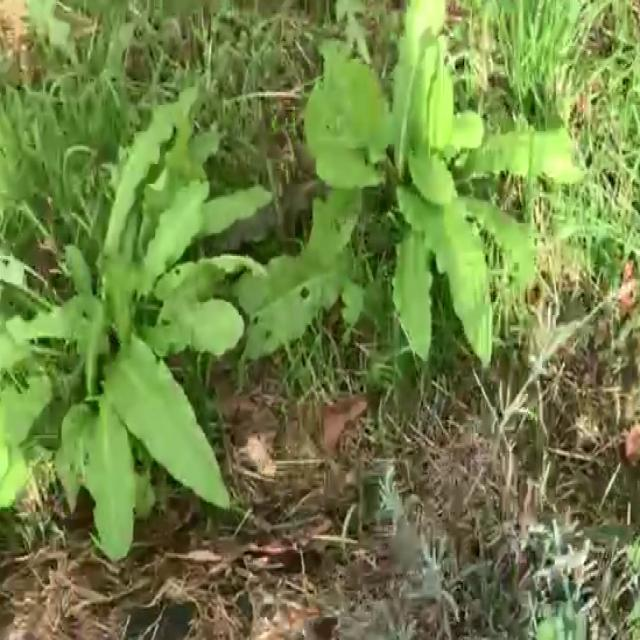organic waste: (0, 130, 274, 572), (268, 0, 570, 384)
